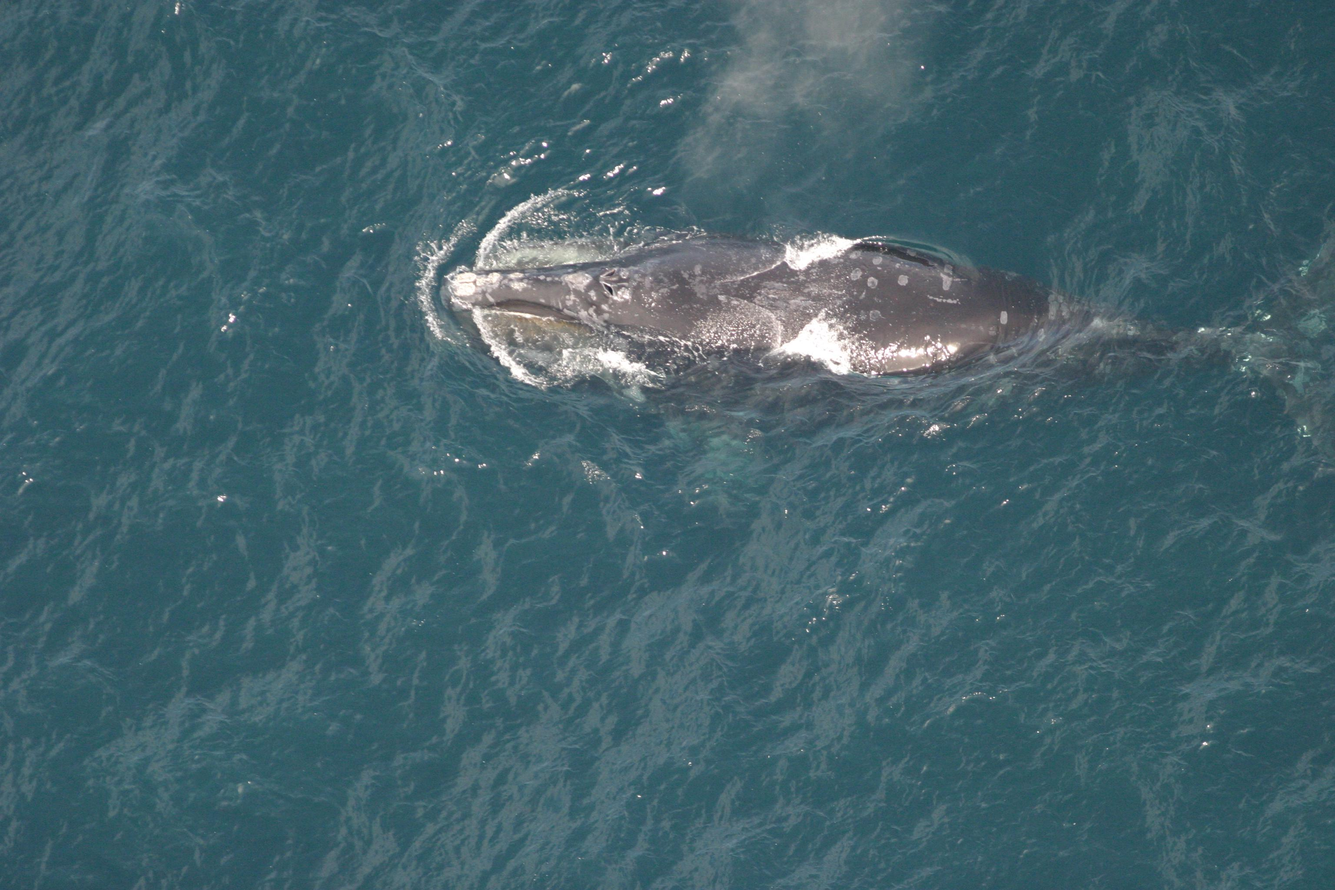whale: (426, 220, 1335, 497)
